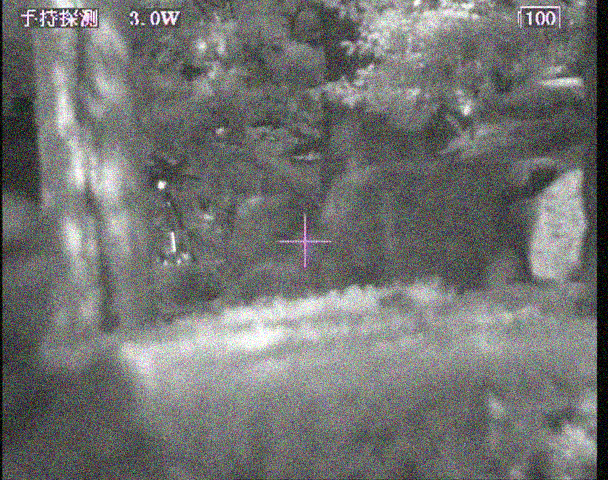my: (156, 181, 167, 190)
